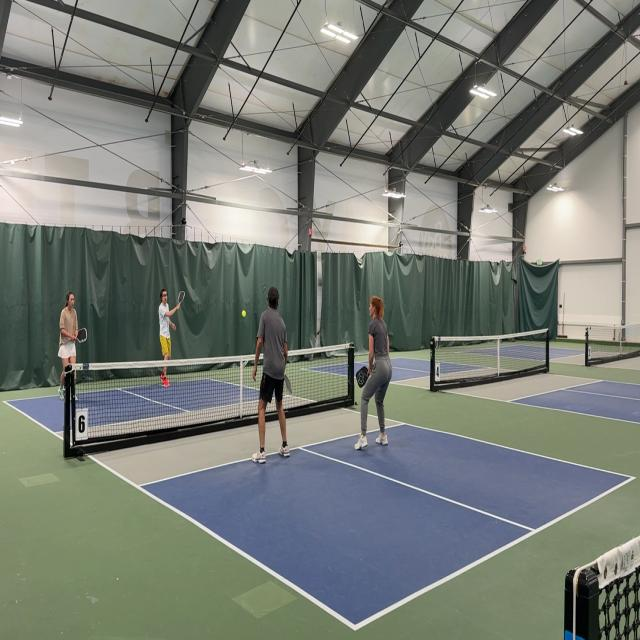ball: (241, 309, 247, 318)
